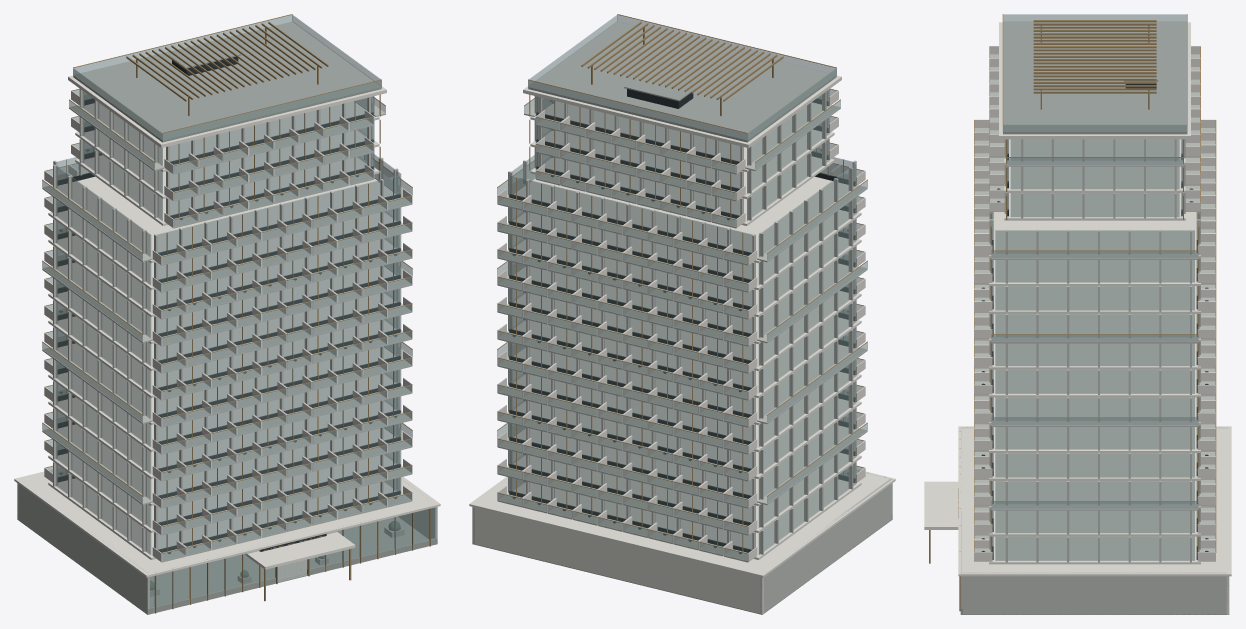
The picture shows the model from 3 angles, left to right: view 1: azimuth 30°, elevation 25°; view 2: azimuth 150°, elevation 25°; view 3: azimuth 270°, elevation 25°; orthographic projection. The views are drawn at different scales.
Parts seen in each view (by area): view 1: Aurelia Grand Hotel: glass, Aurelia Grand Hotel: ivory, Aurelia Grand Hotel: concrete, Aurelia Grand Hotel: stone, Aurelia Grand Hotel: bronze, Aurelia Grand Hotel: dark; view 2: Aurelia Grand Hotel: glass, Aurelia Grand Hotel: ivory, Aurelia Grand Hotel: concrete, Aurelia Grand Hotel: stone, Aurelia Grand Hotel: bronze, Aurelia Grand Hotel: dark; view 3: Aurelia Grand Hotel: ivory, Aurelia Grand Hotel: glass, Aurelia Grand Hotel: concrete, Aurelia Grand Hotel: stone, Aurelia Grand Hotel: bronze, Aurelia Grand Hotel: dark.
Boxes of the visible parts, <box> form: Aurelia Grand Hotel: glass: <box>42,15,434,608</box>; Aurelia Grand Hotel: ivory: <box>14,21,440,577</box>; Aurelia Grand Hotel: concrete: <box>17,89,437,614</box>; Aurelia Grand Hotel: stone: <box>17,21,437,614</box>; Aurelia Grand Hotel: bronze: <box>42,14,430,613</box>; Aurelia Grand Hotel: dark: <box>57,56,400,553</box>; Aurelia Grand Hotel: glass: <box>497,15,881,560</box>; Aurelia Grand Hotel: ivory: <box>469,21,895,614</box>; Aurelia Grand Hotel: concrete: <box>472,89,892,613</box>; Aurelia Grand Hotel: stone: <box>474,21,892,614</box>; Aurelia Grand Hotel: bronze: <box>497,14,885,554</box>; Aurelia Grand Hotel: dark: <box>509,89,855,553</box>; Aurelia Grand Hotel: ivory: <box>924,22,1231,614</box>; Aurelia Grand Hotel: glass: <box>961,14,1198,608</box>; Aurelia Grand Hotel: concrete: <box>960,54,1229,614</box>; Aurelia Grand Hotel: stone: <box>960,21,1229,614</box>; Aurelia Grand Hotel: bronze: <box>929,14,1216,611</box>; Aurelia Grand Hotel: dark: <box>981,84,1208,559</box>.
Size of the model in its own units: 45.6 by 69.82 by 40.05.
